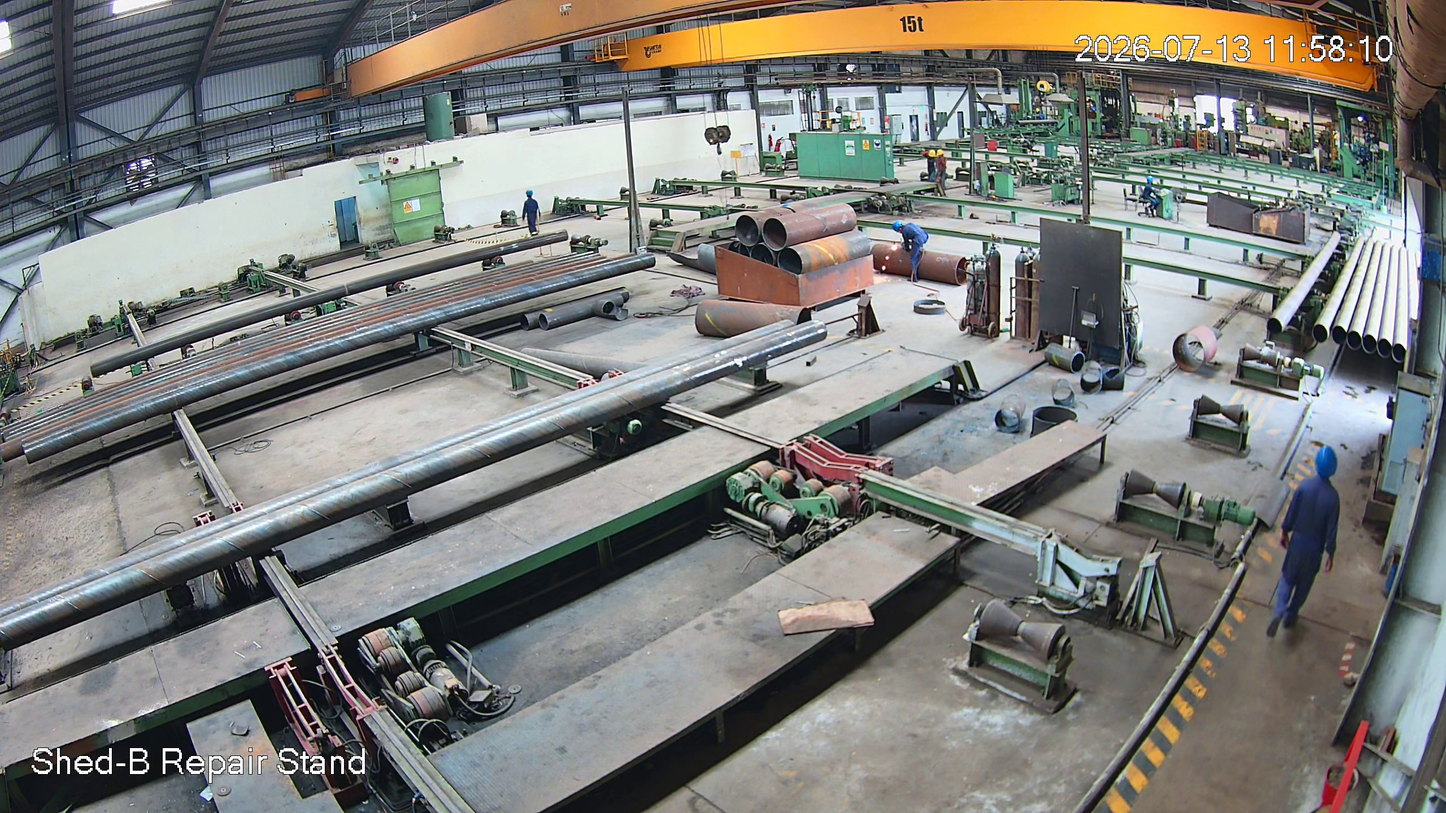Helmet: (1306, 441, 1348, 492)
Person: (1268, 446, 1347, 644)
